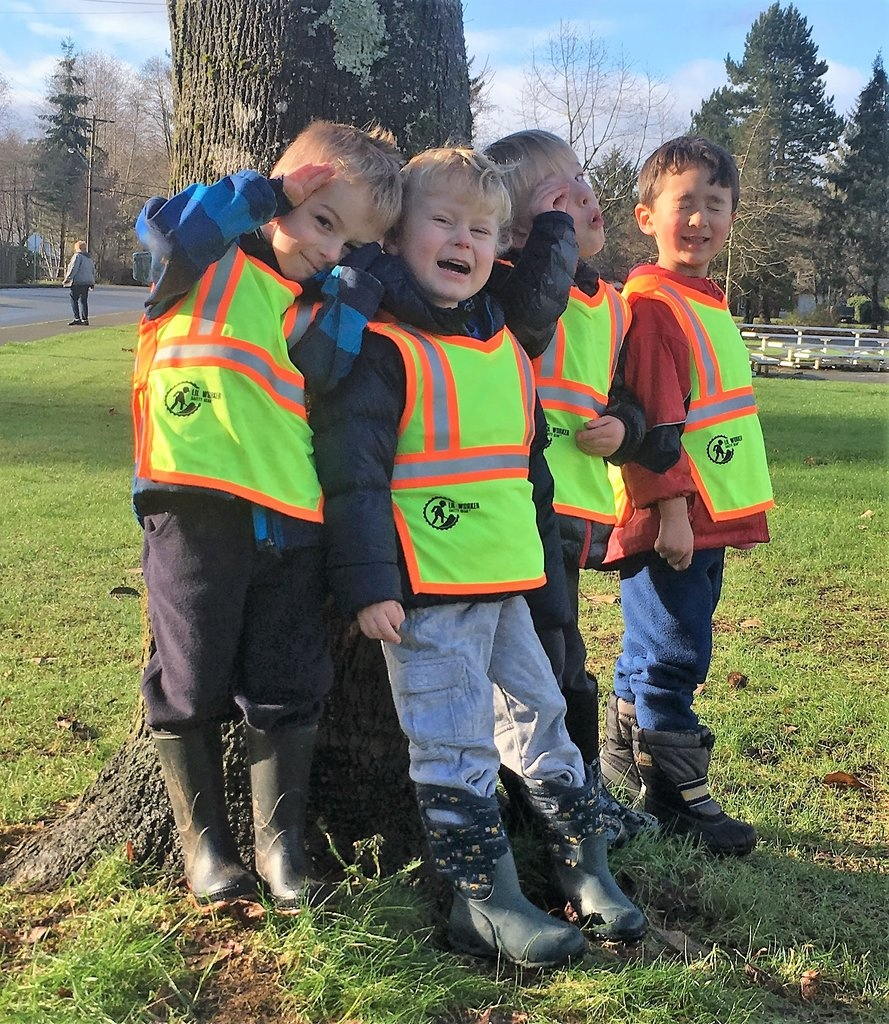person with full safety: (383, 166, 615, 979)
person with partial safety: (121, 122, 343, 912), (610, 130, 772, 856), (504, 127, 616, 806)
person without safety: (61, 234, 101, 326)
safety vest: (370, 321, 546, 594), (146, 255, 318, 514), (626, 280, 778, 525), (537, 259, 627, 519)
